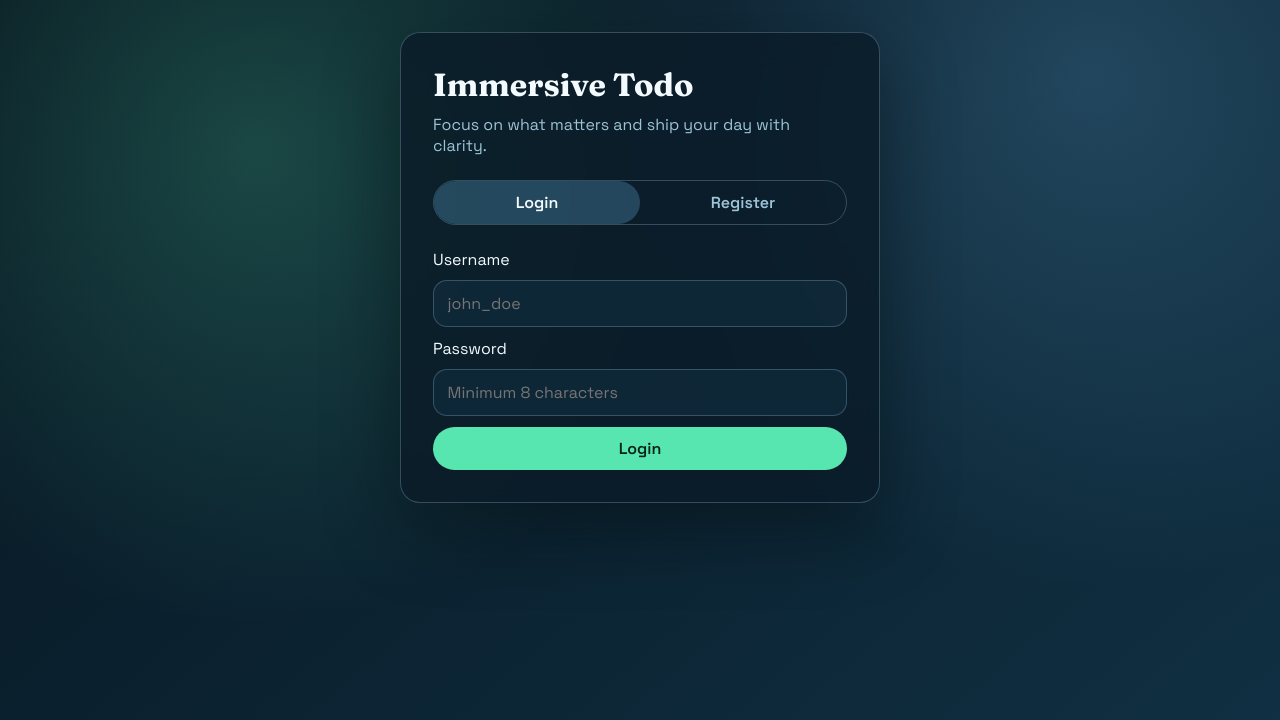
AuthPanel › shows local validation feedback for weak passwords
Click the button "Register". click: (743, 202)
box: [640,181,846,224]
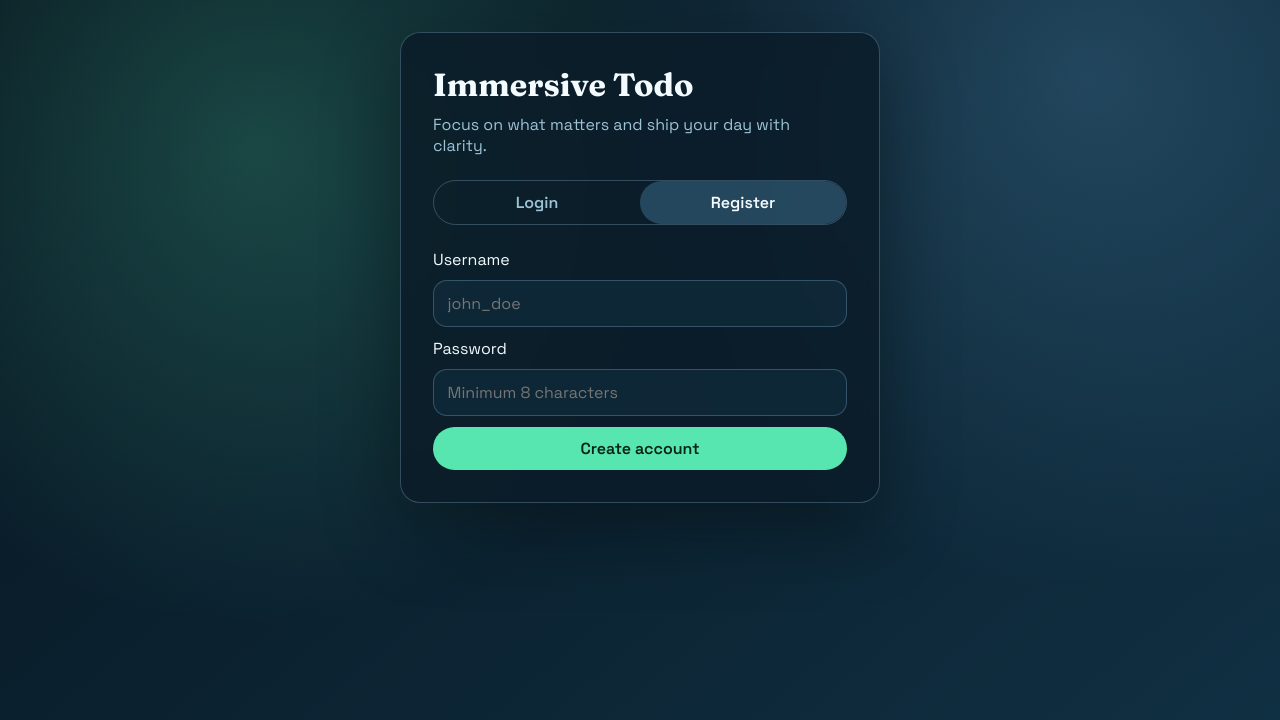
Type "hshhs" into the field labelled "Username". click: (640, 304)
box: [433,280,847,327]
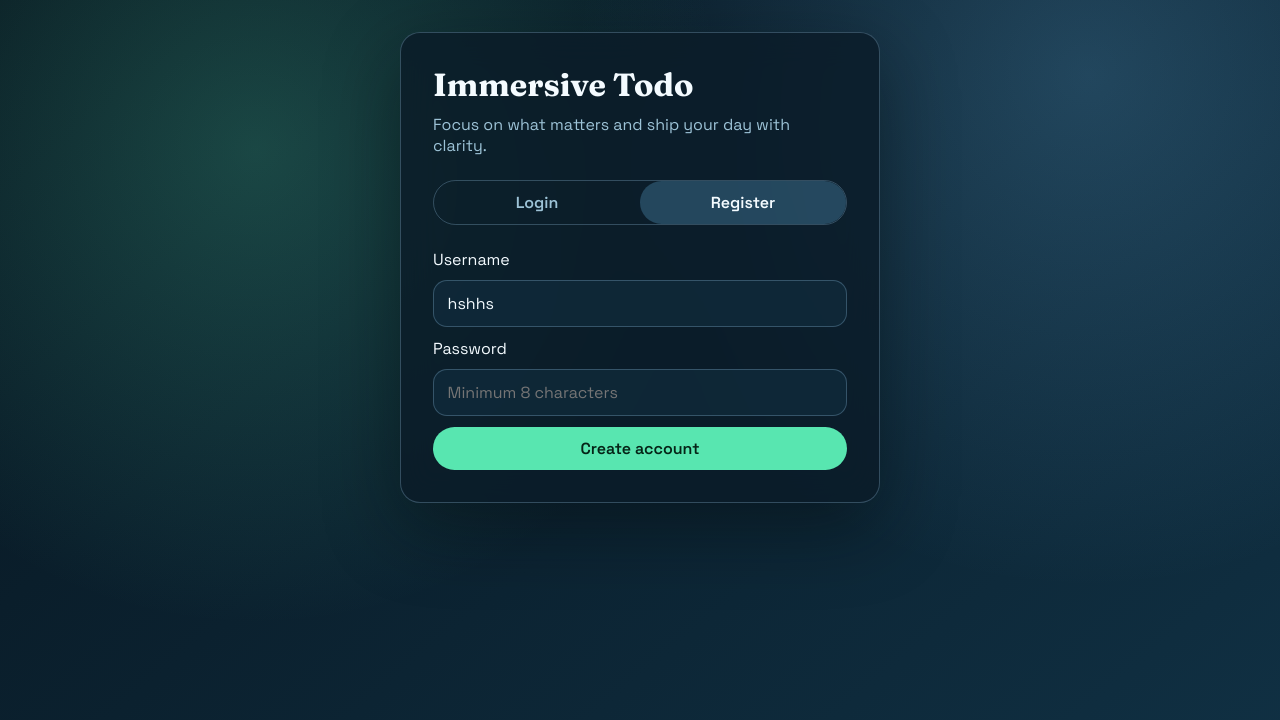
Type "12345" into the password field labelled "Password". click: (640, 393)
box: [433,369,847,416]
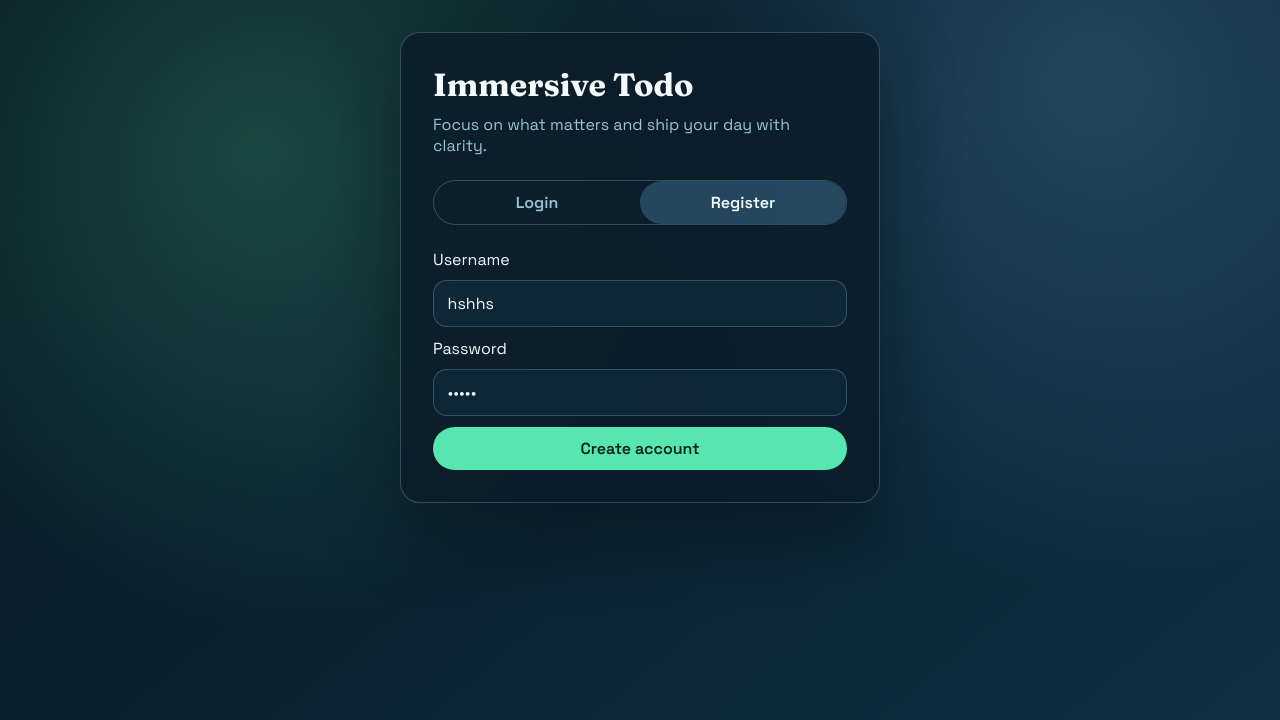
Click the button "Create account". click: (640, 448)
box: [433,426,847,470]
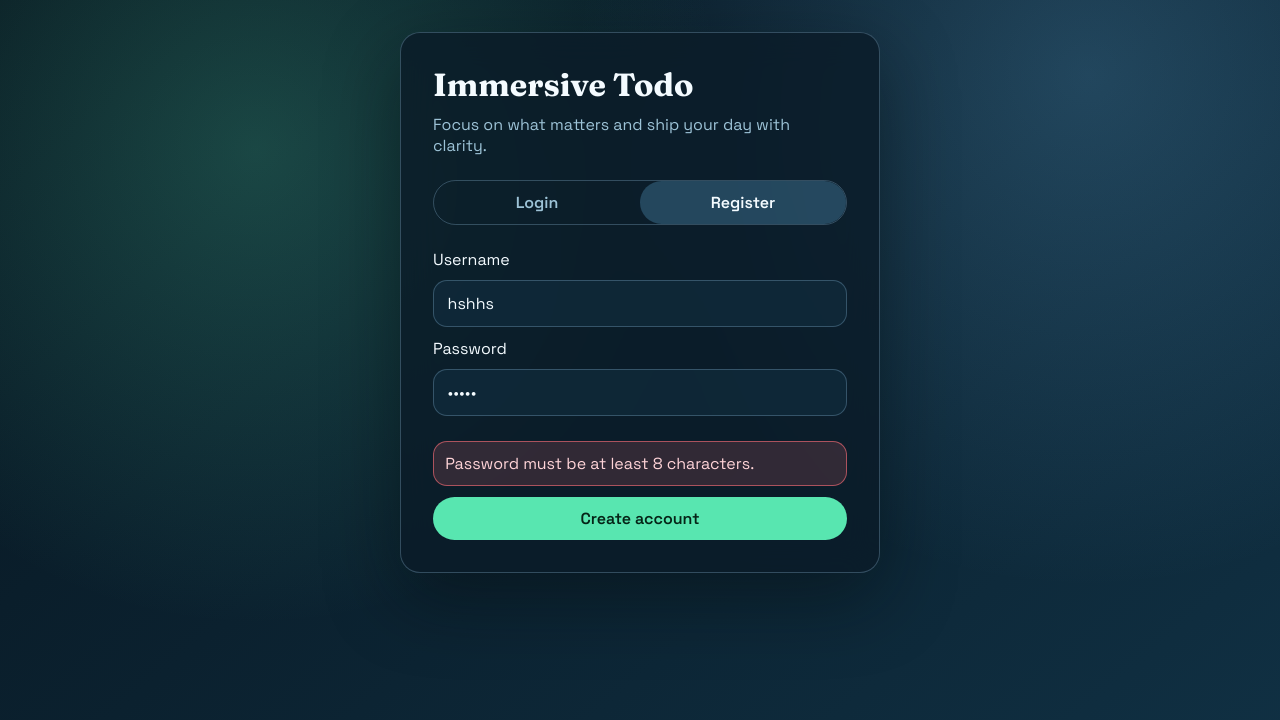
Check: the text "Password must be at least 8 characters." is shown, box [433,441,847,486]
